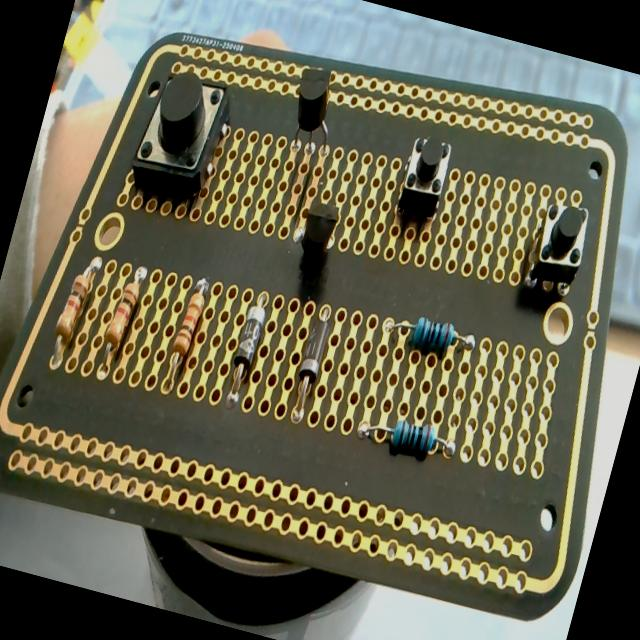diode: (282, 302, 337, 432), (220, 289, 272, 412)
resistor: (44, 250, 102, 372), (158, 272, 212, 396), (94, 259, 148, 380), (380, 306, 480, 366), (358, 408, 459, 467)
switch: (122, 60, 244, 220), (522, 194, 595, 301), (389, 131, 456, 237)
transistor: (280, 61, 348, 164), (286, 190, 352, 268)
